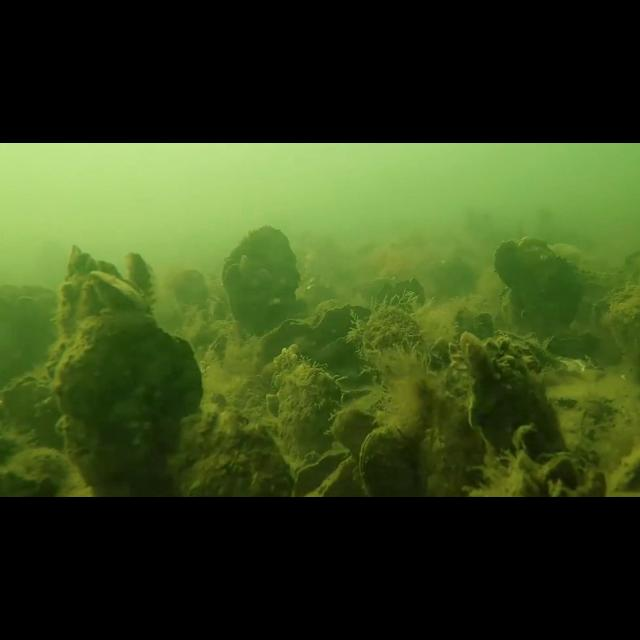Oyster-Closed: (53, 308, 203, 498), (468, 354, 570, 474), (168, 407, 292, 497), (45, 242, 123, 380), (223, 225, 301, 342), (492, 234, 580, 300), (358, 424, 420, 498), (0, 375, 52, 453), (89, 271, 150, 311), (534, 454, 580, 498), (458, 329, 492, 383)
Oyster-Open: (258, 301, 372, 365), (291, 449, 355, 497)
